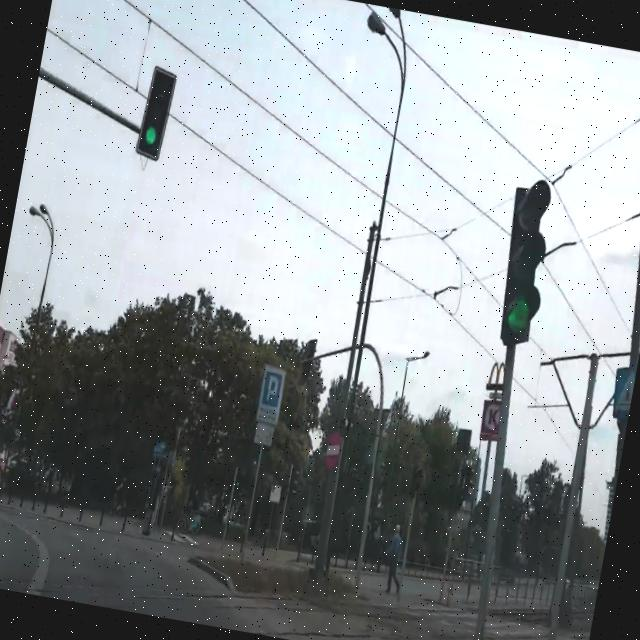Zakaz wjazdu: (324, 430, 344, 470)
